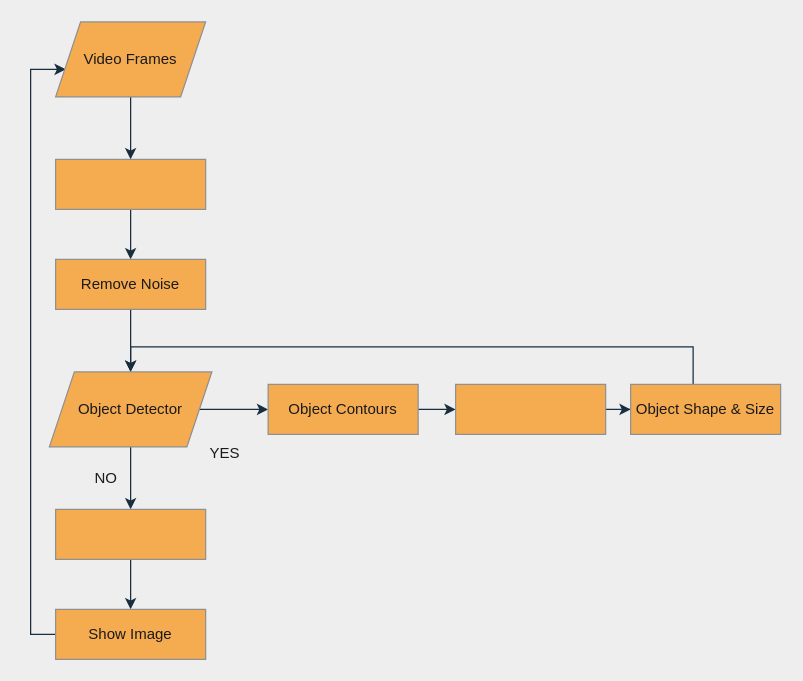
This 803x681 diagram has some shape labels left out. The centre of each missing label's shape, as x and y in pixels:
"Binarize Image" belongs at (x=130, y=183).
"Object Centroid" belongs at (x=530, y=408).
"Object Recognizer" belongs at (x=130, y=533).
